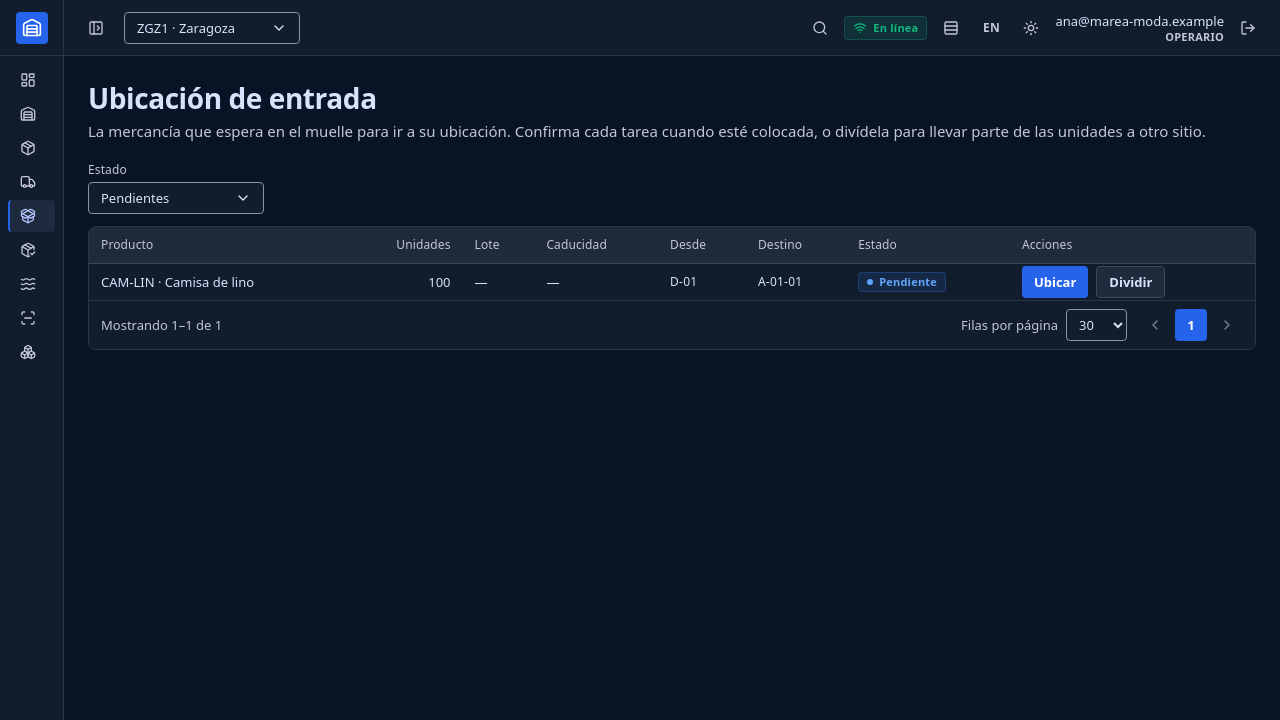
Test case: the putaway tasks › puts the goods in the suggested location without asking for a reason
Click the button with aria-label "Ubicar CAM-LIN · Camisa de lino" at [1055, 282], box [1022,266,1088,298]
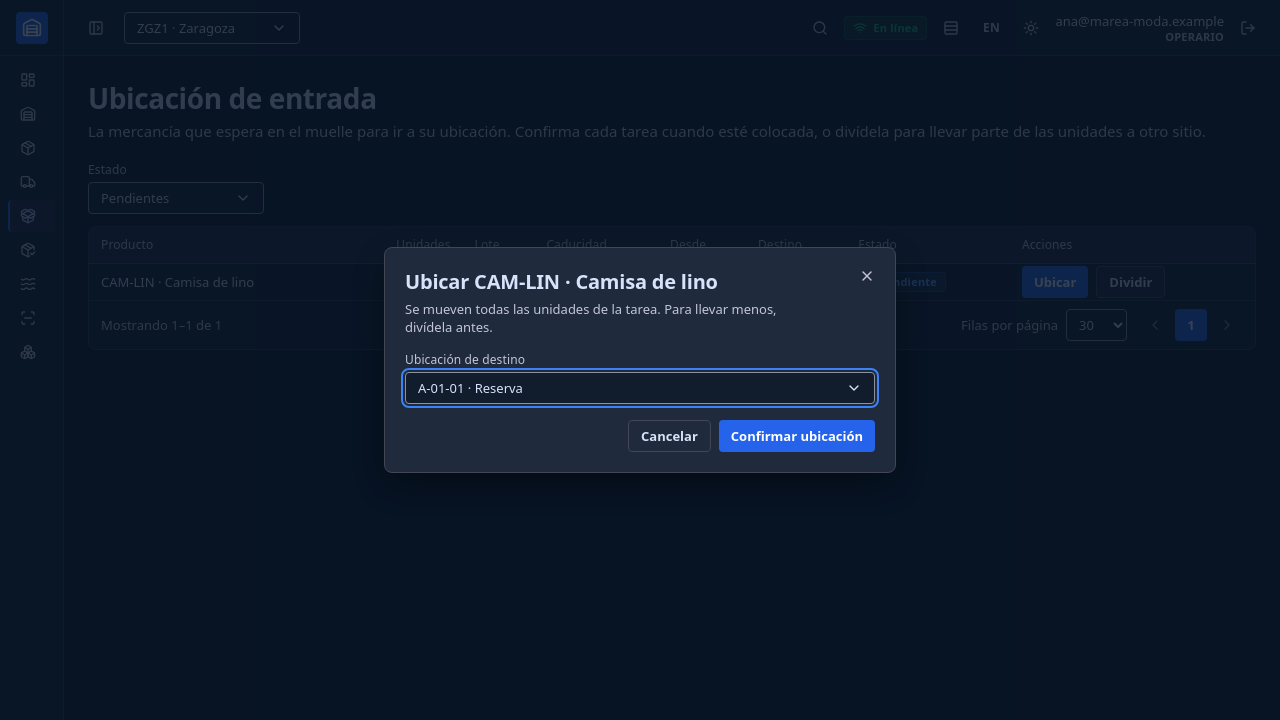
Now the dropdown named "Ubicación de destino" shows "A-01-01", box [405,372,875,404]
Click the button "Confirmar ubicación" at [797, 436], box [719,420,875,452]
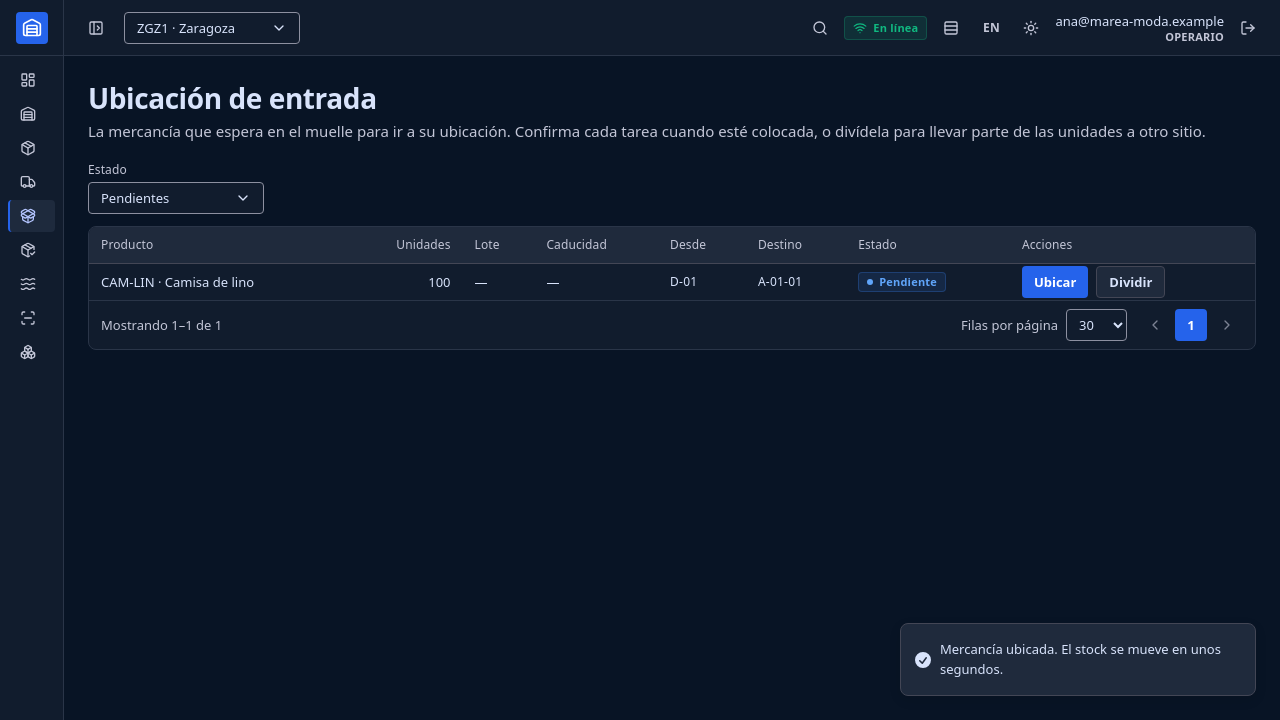
Now the dialog is gone
